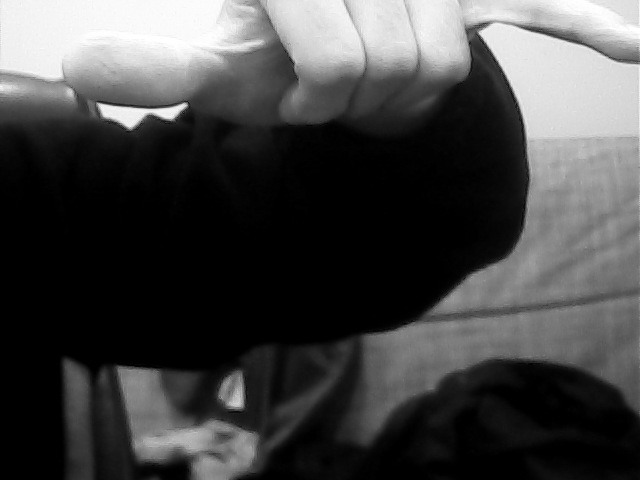aloha: (60, 1, 640, 134)
